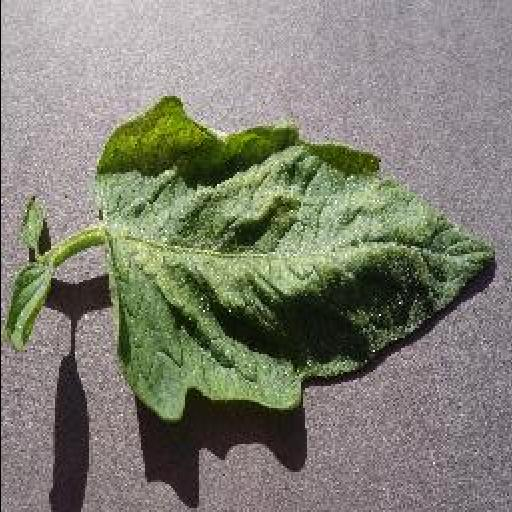disease_tomato: (88, 96, 498, 420)
